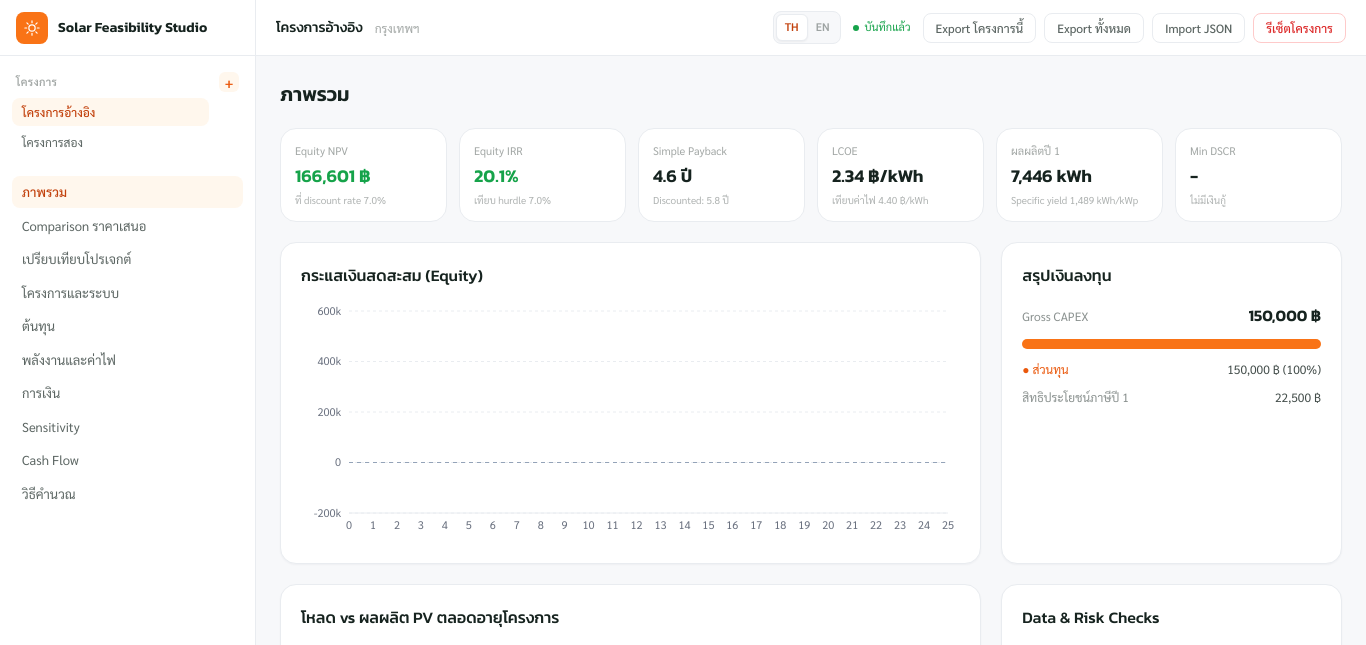
Test: portfolio page (Phase 6) › lists every project with metrics, score and a totals row
Click the link "เปรียบเทียบโปรเจกต์". click: (77, 258)
box: [22,250,131,267]
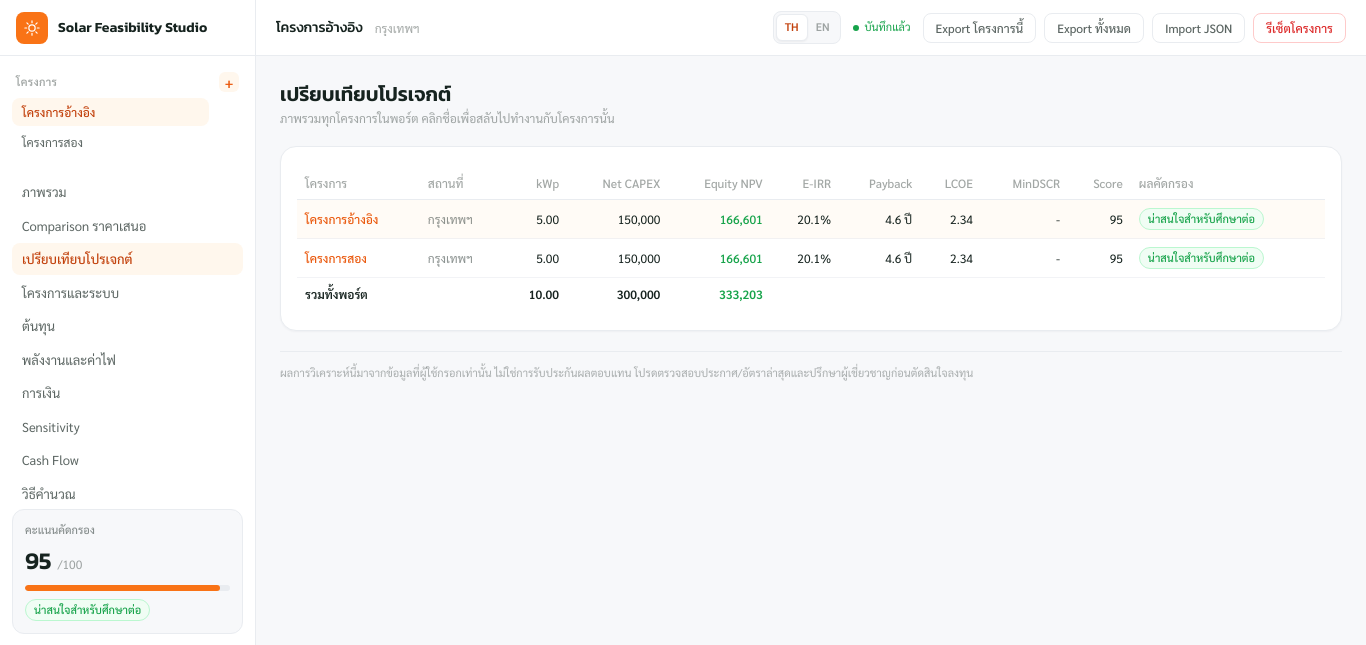
Now the button "โครงการอ้างอิง" below "สถานที่" is shown, box [305,211,378,227]
Now the button "โครงการสอง" below "สถานที่" is shown, box [305,250,367,266]
Now the text "รวมทั้งพอร์ต" is shown, box [297,278,420,310]
